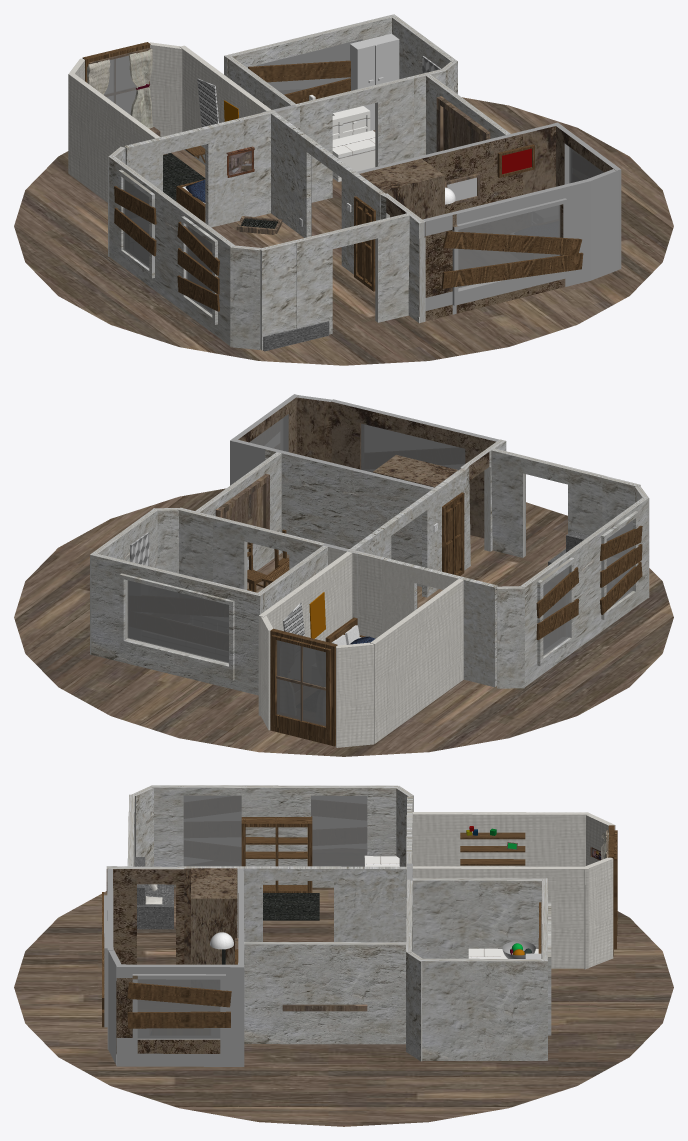
Rendered from 3Dprojectmodeltextured.fbx.
3 renders of one model, top to bottom at view 1: azimuth 30°, elevation 25°; view 2: azimuth 150°, elevation 25°; view 3: azimuth 270°, elevation 25°, orthographic.
Visible parts, largest first — view 1: pDisc1, wall26, wall, wall1, wall2, wall19, wall4, wall5, wall23, wall8, wall10, wall6 (+43 smaller); view 2: pDisc1, wall30, wall23, wall5, wall, wall2, wall4, pCube11, wall1, wall26, wall11, wall6 (+29 smaller); view 3: pDisc1, wall21, wall16, wall, wall14, wall1, wall5, wall25, wall6, pCube2, pCube4, wall22 (+18 smaller).
Part boxes in pixels (x1,y1,x2,y2): pDisc1: (14, 97, 673, 365); wall26: (421, 179, 590, 320); wall: (109, 156, 235, 345); wall1: (268, 110, 385, 291); wall2: (294, 213, 412, 334); wall19: (294, 77, 413, 202); wall4: (124, 118, 243, 227); wall5: (68, 72, 159, 202); wall23: (357, 132, 522, 213); wall8: (259, 240, 296, 350); wall10: (230, 245, 260, 349); wall6: (180, 45, 271, 164); pDisc1: (14, 488, 673, 756); wall30: (91, 553, 262, 695); wall23: (265, 448, 434, 586); wall5: (370, 579, 463, 743); wall: (520, 496, 648, 686); wall2: (488, 447, 605, 557); wall4: (379, 557, 497, 687); pCube11: (127, 580, 228, 663); wall1: (346, 468, 466, 597); wall26: (331, 399, 501, 538); wall11: (336, 642, 374, 747); wall6: (258, 551, 352, 715); pDisc1: (14, 887, 673, 1126); wall21: (244, 942, 405, 1044); wall16: (420, 958, 547, 1060); wall: (151, 785, 397, 887); wall14: (412, 878, 541, 958); wall1: (184, 866, 412, 964); wall5: (412, 812, 588, 866); wall25: (116, 964, 244, 1066); wall6: (413, 866, 588, 968); pCube2: (183, 795, 241, 866); pCube4: (191, 868, 237, 964); wall22: (106, 866, 184, 964).
Size of the model in its own units: 38.57 by 11.7 by 38.57.
